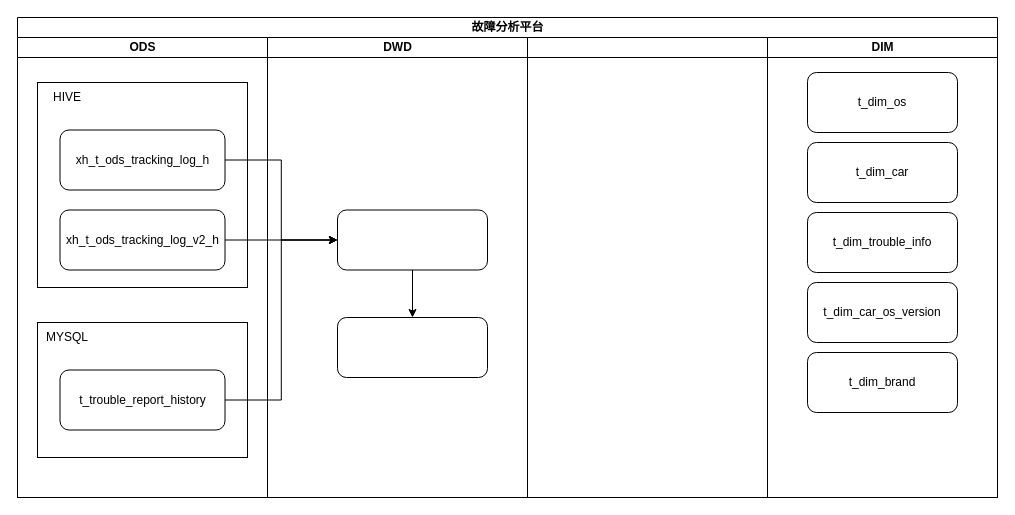
The diagram is 1015 pixels wide and 515 high, and some of its shapes have lost their labels. Each missing label, with the centre of its shape:
"DWS" goes at (x=647, y=267).
"t_dwd_fault_info_h" goes at (x=412, y=239).
"t_dwd_fault_info_new_h" goes at (x=412, y=347).
